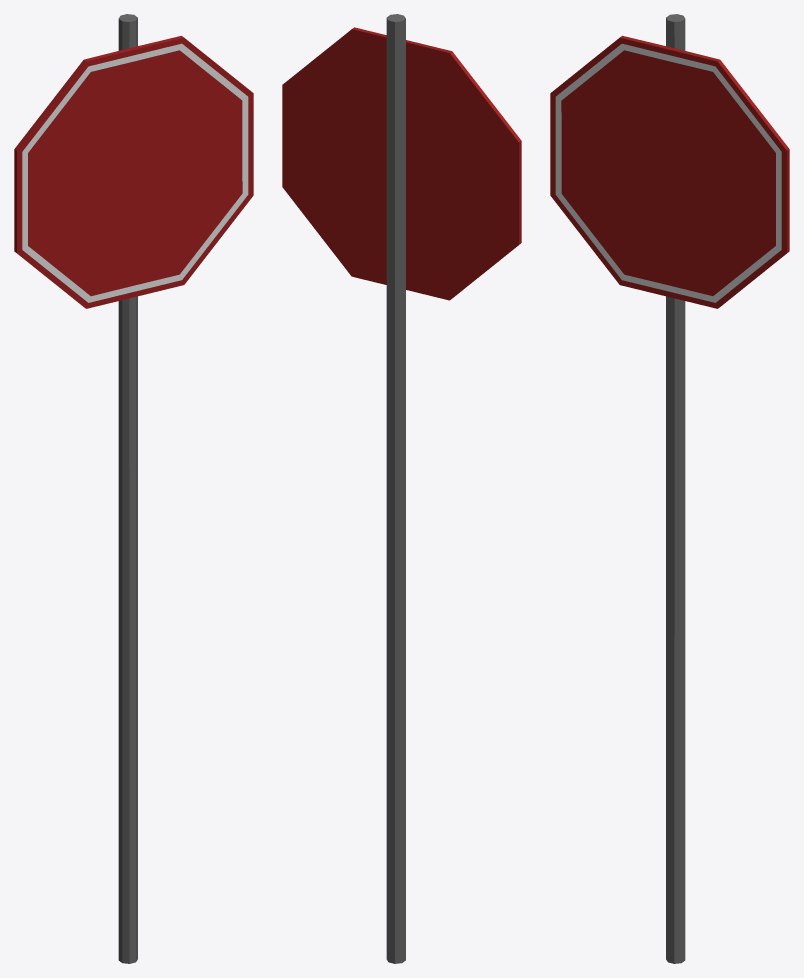
Rendered from Sign_Stop.fbx.
3 views of the same model, side by side, from view 1: azimuth 30°, elevation 25°; view 2: azimuth 150°, elevation 25°; view 3: azimuth 330°, elevation 25° (orthographic).
Parts seen in each view (by area): view 1: pCylinder3; view 2: pCylinder3; view 3: pCylinder3.
Part boxes in pixels (x1=…): pCylinder3: x1=14, y1=14, x2=253, y2=963; pCylinder3: x1=282, y1=14, x2=521, y2=963; pCylinder3: x1=550, y1=14, x2=789, y2=963.
Bounding box in the file's own units: 62.74 × 239 × 5.3.
